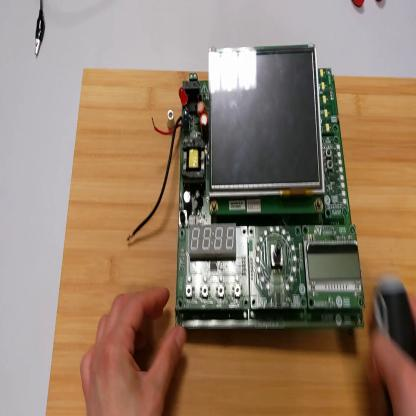hand: (81, 286, 187, 415), (367, 299, 416, 416)
low voltage board: (127, 44, 366, 328)
pliers: (353, 1, 385, 10)
screwdriver-: (373, 279, 416, 412)
working area: (46, 54, 416, 416)
